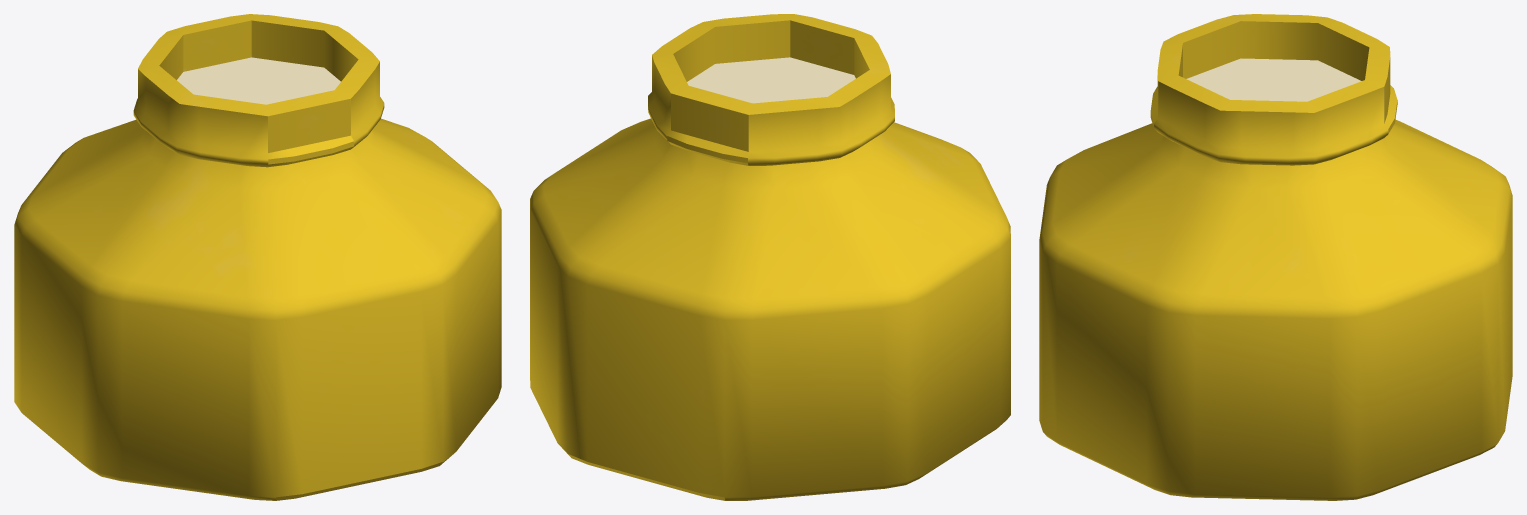
File: Shelf Item (7).fbx
3 renders of one model, left to right at view 1: azimuth 30°, elevation 25°; view 2: azimuth 150°, elevation 25°; view 3: azimuth 270°, elevation 25°, orthographic.
Parts seen in each view (by area): view 1: Object125; view 2: Object125; view 3: Object125.
Part boxes in pixels (x1=…): Object125: x1=14, y1=14, x2=501, y2=500; Object125: x1=530, y1=14, x2=1010, y2=500; Object125: x1=1039, y1=14, x2=1512, y2=500.
Size of the model in its own units: 11.4 by 9.15 by 11.4.
